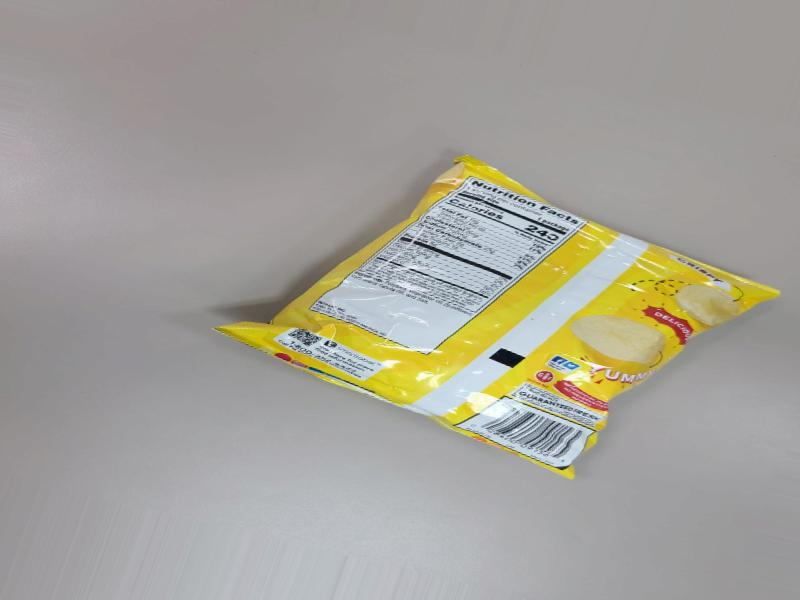lays: (138, 168, 800, 503)
